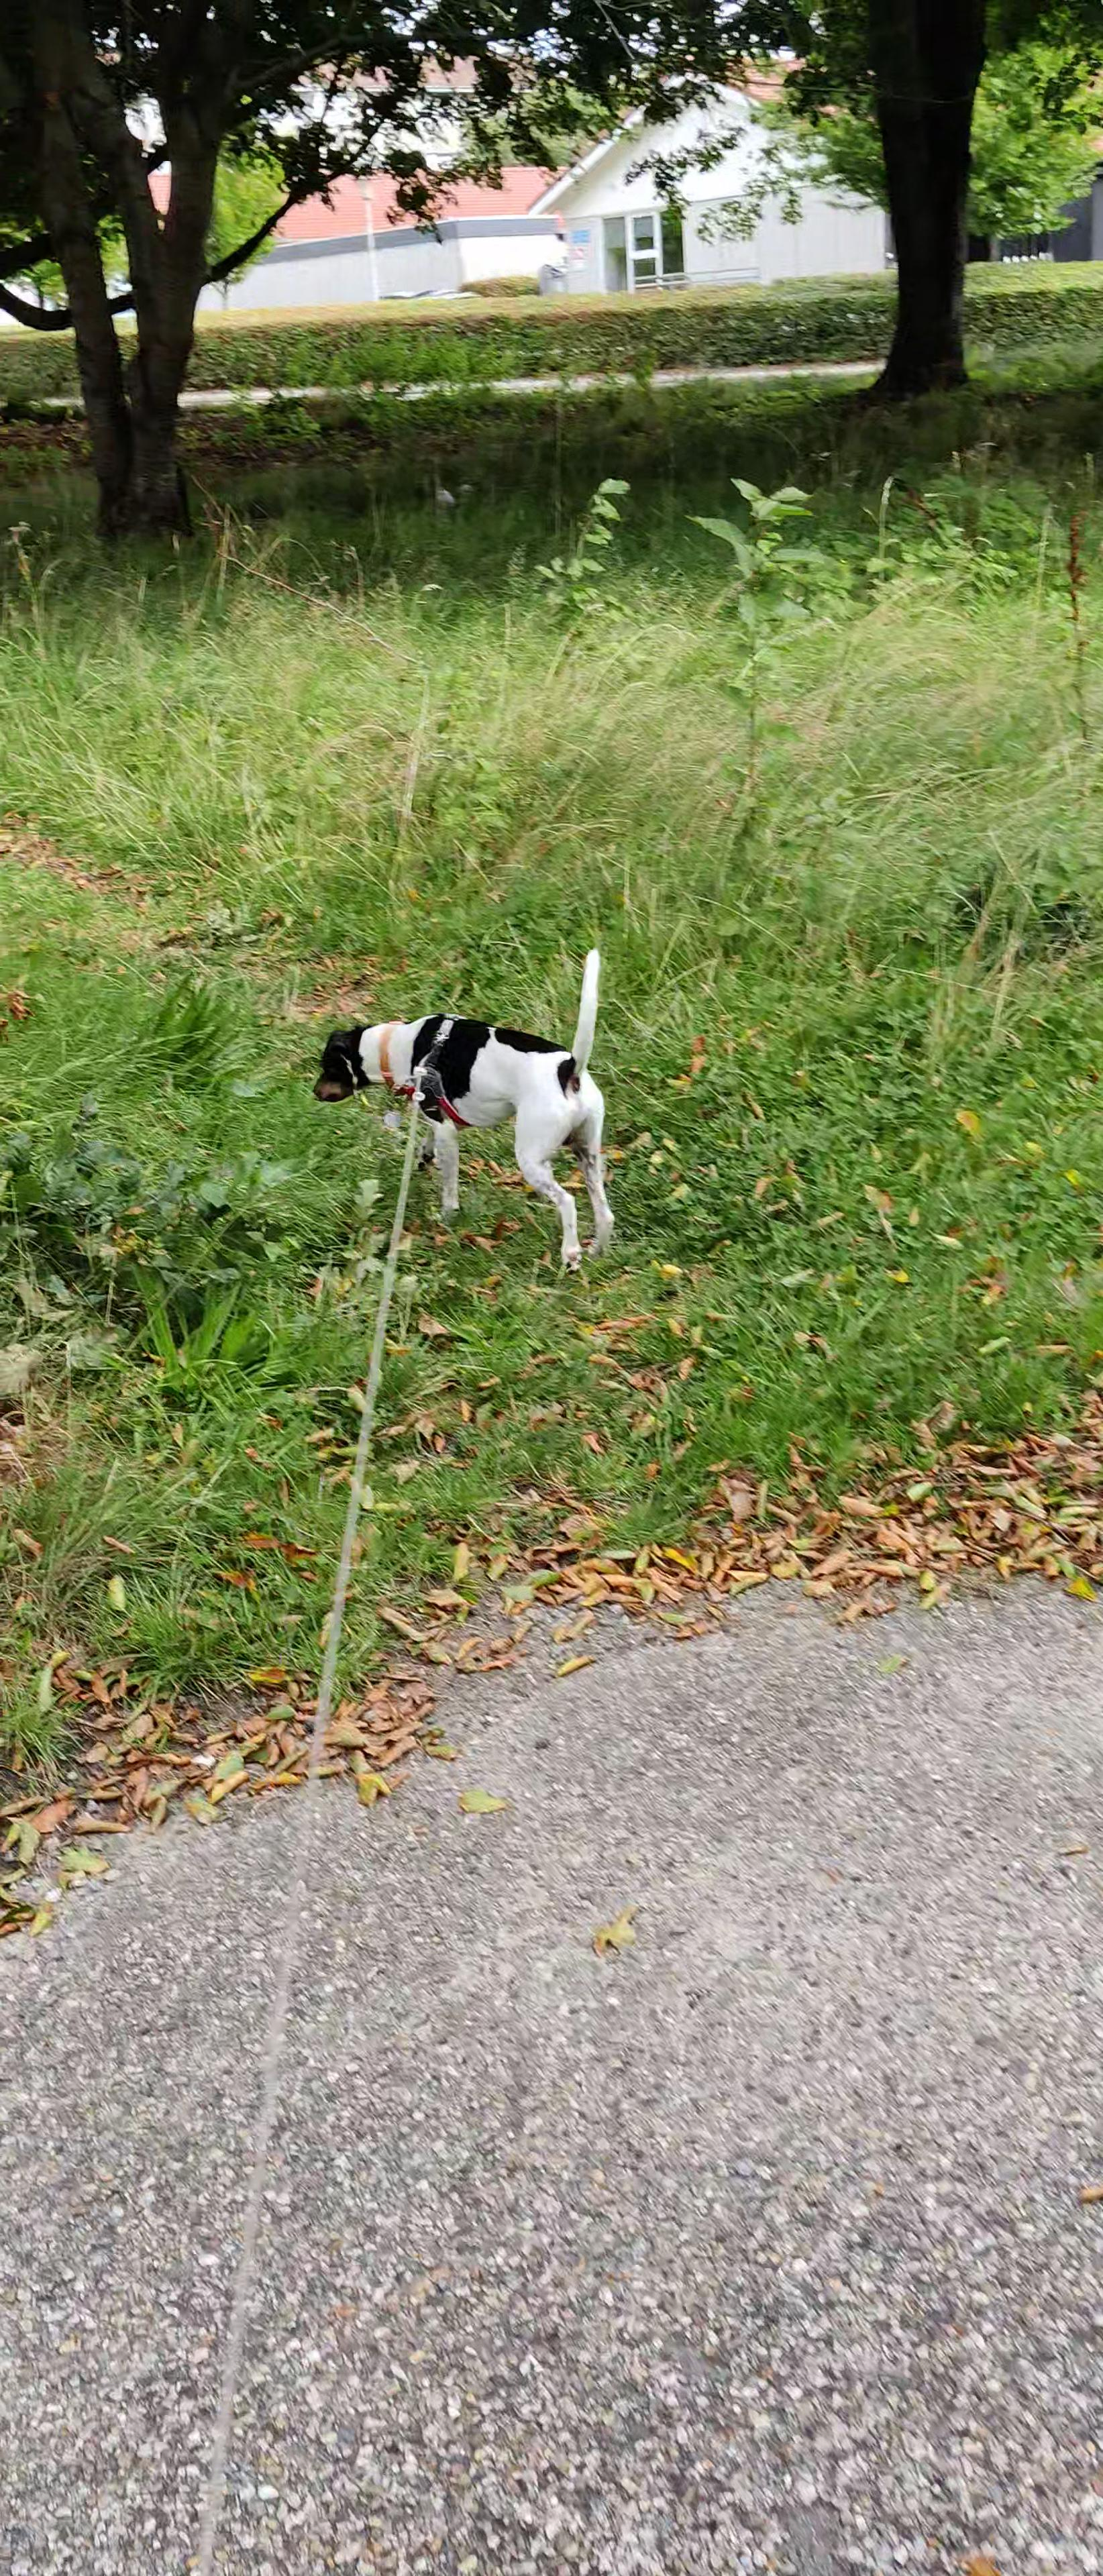Dog: (307, 943, 620, 1278)
